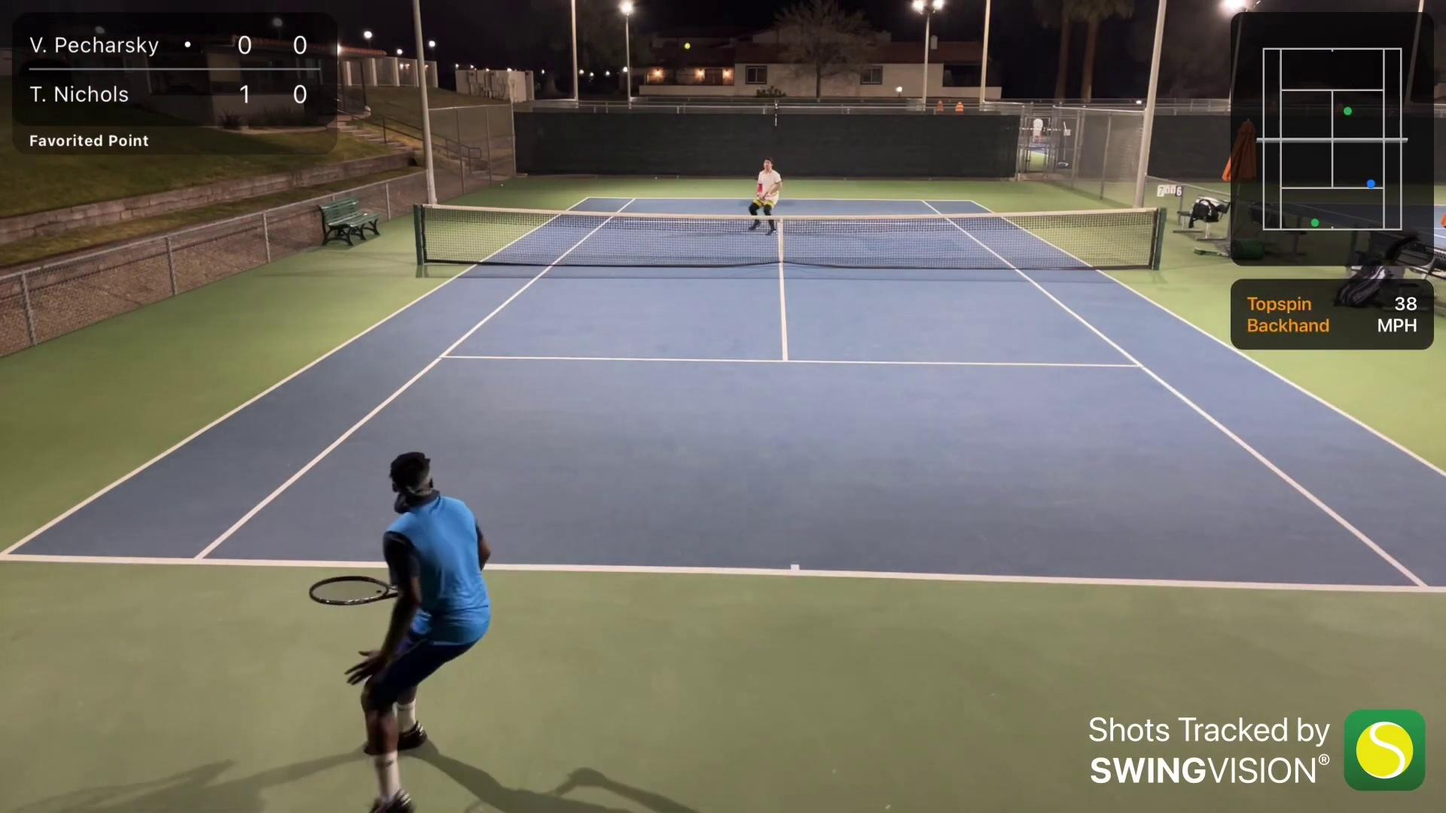ball: (685, 43, 690, 49)
